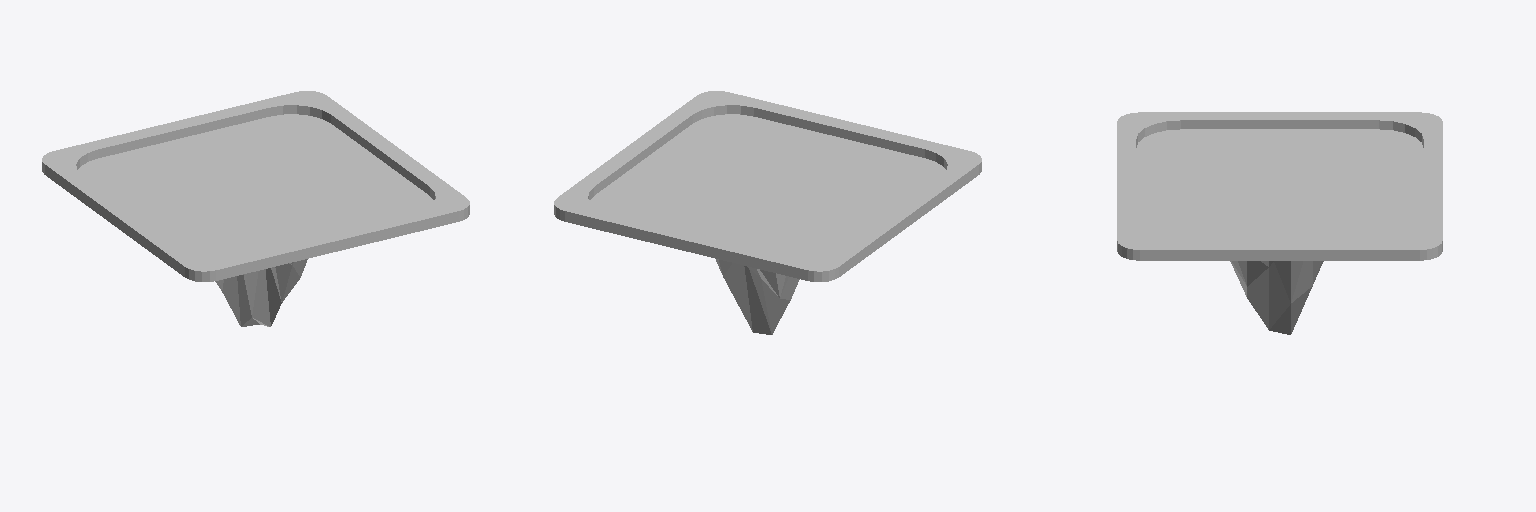
File: Arena.obj
3 views of the same model, side by side, from view 1: azimuth 30°, elevation 25°; view 2: azimuth 150°, elevation 25°; view 3: azimuth 270°, elevation 25° (orthographic).
Parts seen in each view (by area): view 1: Arena_A; view 2: Arena_A; view 3: Arena_A.
Part boxes in pixels (left/top/right/bottom): Arena_A: left=42, top=91, right=469, bottom=326; Arena_A: left=554, top=91, right=981, bottom=334; Arena_A: left=1117, top=112, right=1442, bottom=334.
Bounding box in the file's own units: 97.68 × 49.51 × 97.68.